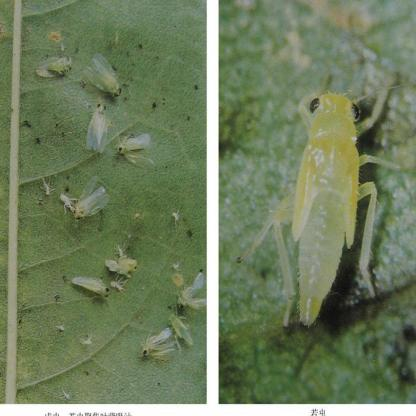Green-Leafhopper: (270, 89, 414, 328), (68, 175, 112, 223), (113, 125, 156, 172), (135, 324, 182, 367), (83, 49, 123, 99), (176, 268, 209, 310), (166, 309, 194, 358), (86, 103, 112, 154), (70, 273, 111, 303), (34, 54, 76, 81), (106, 250, 140, 279)
